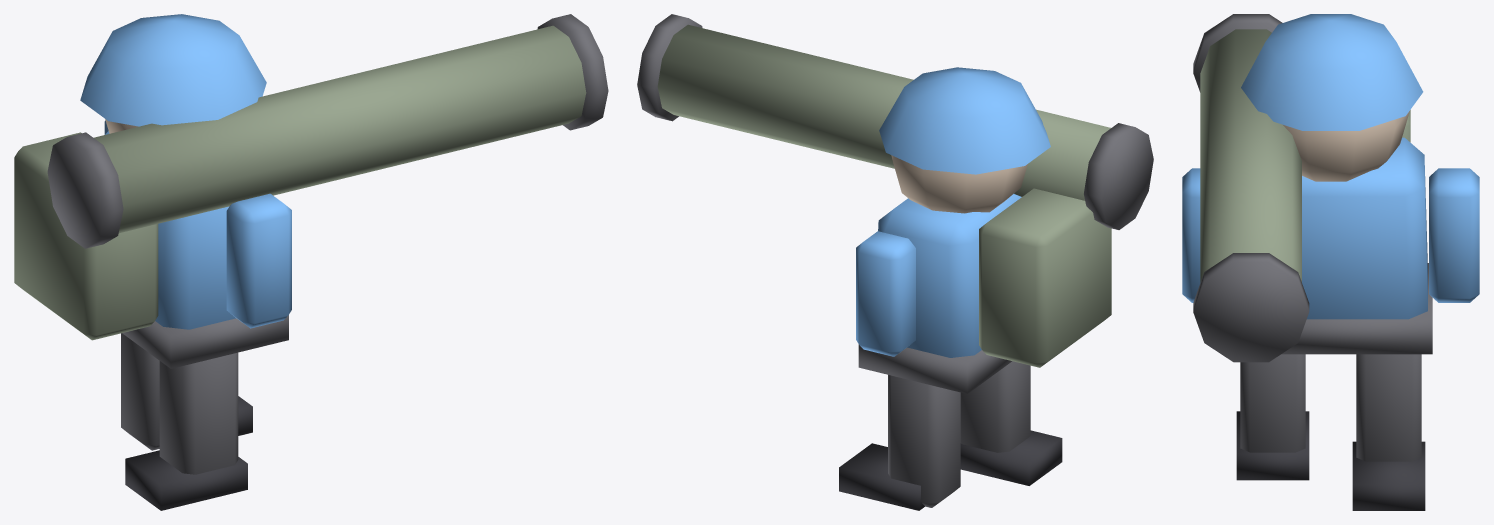
Rendered from rocketeer.glb.
The picture shows the model from 3 angles, left to right: view 1: azimuth 30°, elevation 25°; view 2: azimuth 150°, elevation 25°; view 3: azimuth 270°, elevation 25°; orthographic projection. The views are drawn at different scales.
Parts seen in each view (by area): view 1: body; view 2: body; view 3: body.
Boxes of the visible parts, left/top/right/bottom form: body: left=14, top=14, right=608, bottom=510; body: left=637, top=14, right=1153, bottom=510; body: left=1182, top=14, right=1479, bottom=510.
Size of the model in its own units: 0.3645 by 0.3053 by 0.1845.
